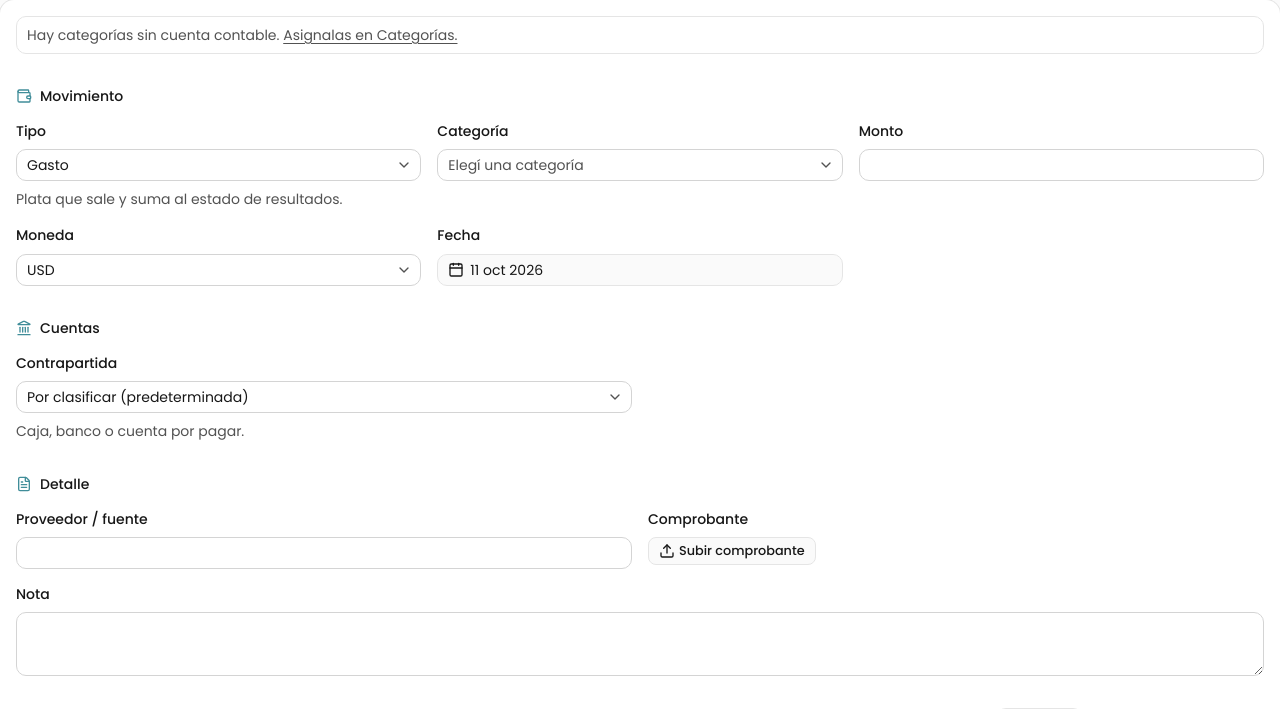
Scenario: FinanceEntryForm — la categoría vive donde hay resultado › en "Préstamo de socio" no hay selector de categoría
Click the dropdown named "Tipo" at coordinates (48, 165), box [16,149,421,181]
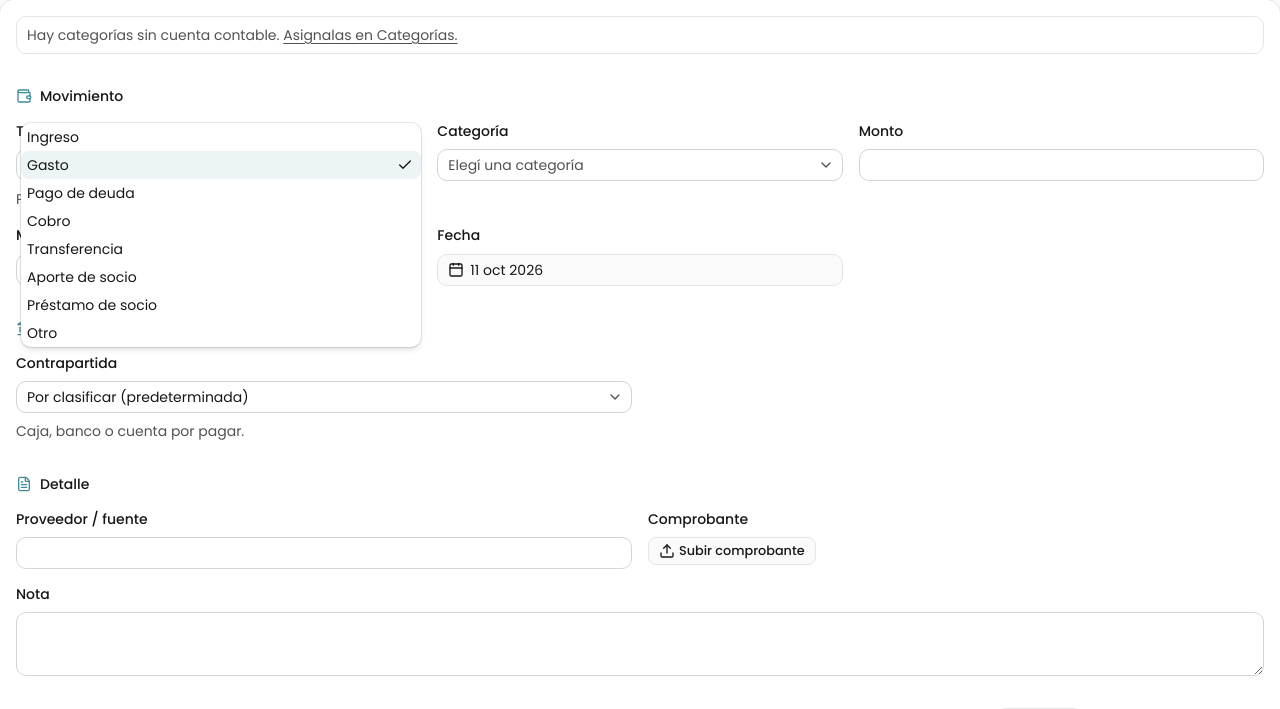
Click the option "Préstamo de socio" at coordinates (92, 305), box [27,295,157,315]
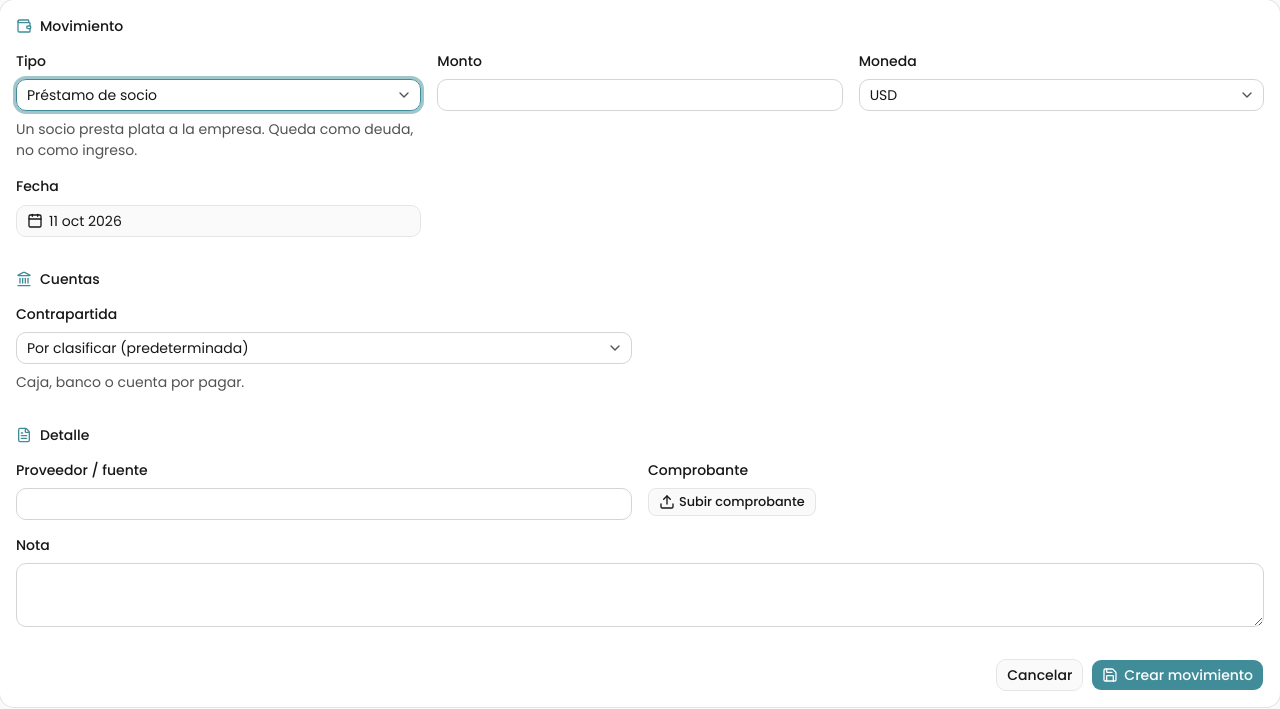
Check: the link "Categoría" is gone
Check: the text "Hay categorías sin cuenta contable." is gone
